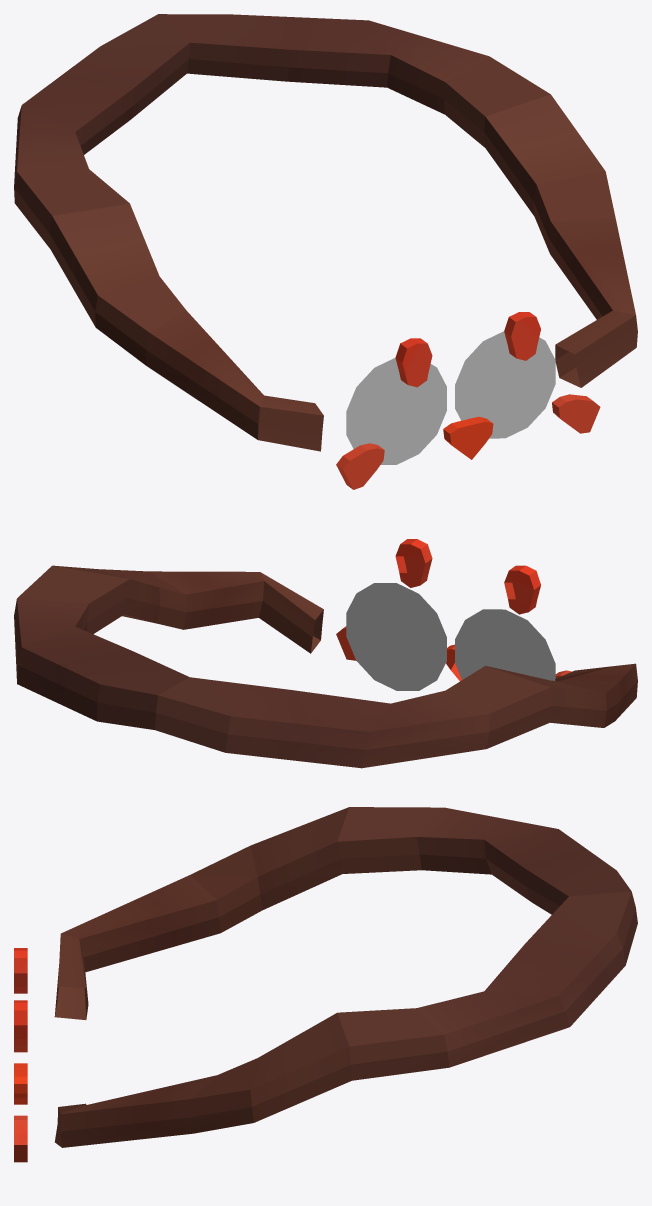
Rendered from goggles.fbx.
3 renders of one model, top to bottom at view 1: azimuth 30°, elevation 25°; view 2: azimuth 150°, elevation 25°; view 3: azimuth 270°, elevation 25°, orthographic.
Parts seen in each view (by area): view 1: goggles; view 2: goggles; view 3: goggles.
Part boxes in pixels (left/top/right/bottom): goggles: left=14, top=14, right=637, bottom=489; goggles: left=14, top=539, right=637, bottom=768; goggles: left=14, top=807, right=637, bottom=1162.
Size of the model in its own units: 25.24 by 12.69 by 27.09.
